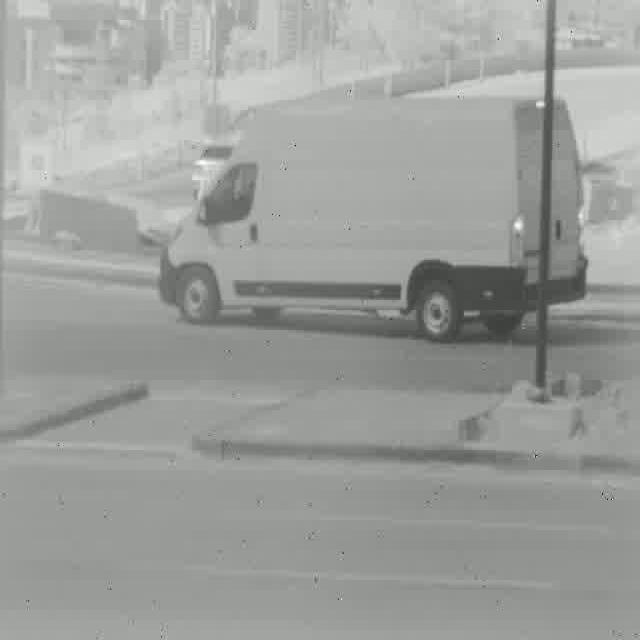Car: (156, 100, 590, 341), (190, 146, 234, 197)
